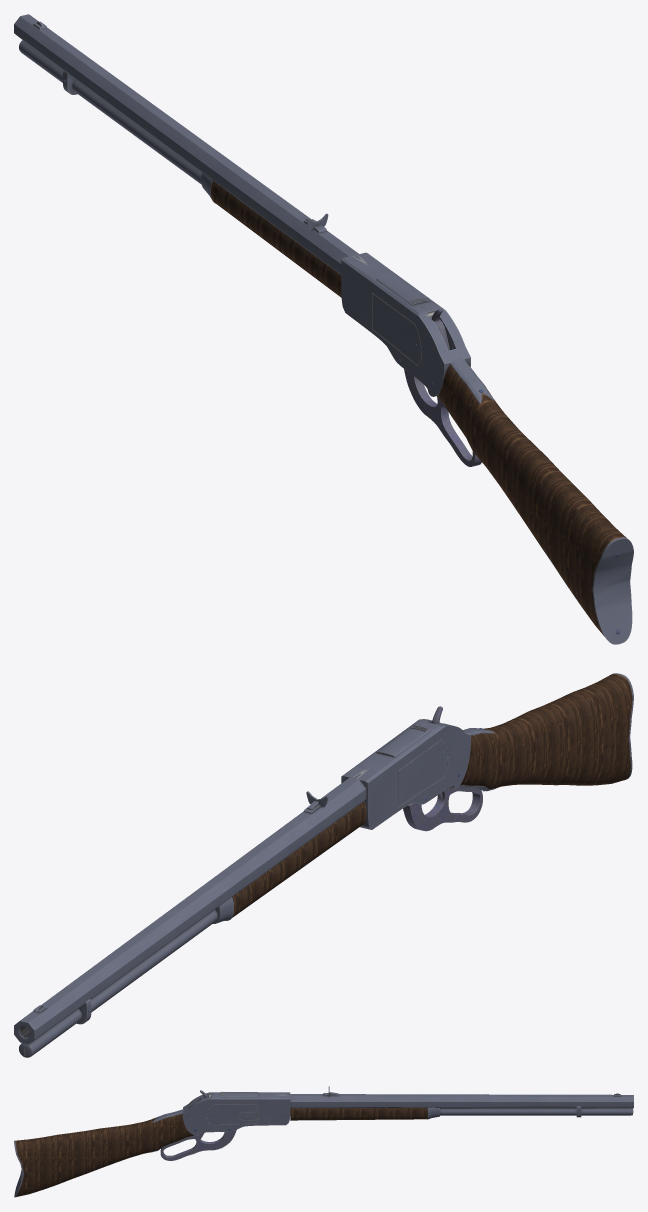
The model's file is win73_24.glb.
The picture shows the model from 3 angles, top to bottom: view 1: azimuth 30°, elevation 25°; view 2: azimuth 150°, elevation 25°; view 3: azimuth 270°, elevation 25°; orthographic projection. The views are drawn at different scales.
Parts seen in each view (by area): view 1: Buttstock, Barrel, Receiver, Buttplate, Forend, MagTube, Lever; view 2: Buttstock, Barrel, Receiver, Forend, MagTube, Lever, DustCover; view 3: Buttstock, Barrel, Receiver, Forend, MagTube, Lever, DustCover.
Part boxes in pixels (x1,y1,x2,y2): Buttstock: (437,361,626,636); Barrel: (14,14,361,274); Receiver: (341,252,493,458); Buttplate: (592,537,633,644); Forend: (211,180,341,297); MagTube: (19,40,201,184); Lever: (404,369,481,466); Buttstock: (460,674,632,790); Barrel: (14,773,366,1044); Receiver: (341,719,495,829); Forend: (232,801,366,917); MagTube: (19,910,217,1057); Lever: (403,786,482,831); DustCover: (376,725,430,757); Buttstock: (15,1113,193,1196); Barrel: (284,1094,633,1108); Receiver: (150,1092,290,1152); Forend: (290,1107,427,1120); MagTube: (440,1108,633,1115); Lever: (160,1130,236,1160); DustCover: (220,1092,257,1097).
Size of the model in its own units: 0.0391 by 0.2105 by 1.1.
Materials: 5 (2 with a texture image).
